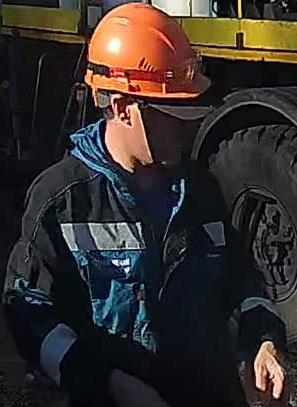helmet: (84, 1, 212, 100)
vest: (12, 147, 270, 336)
